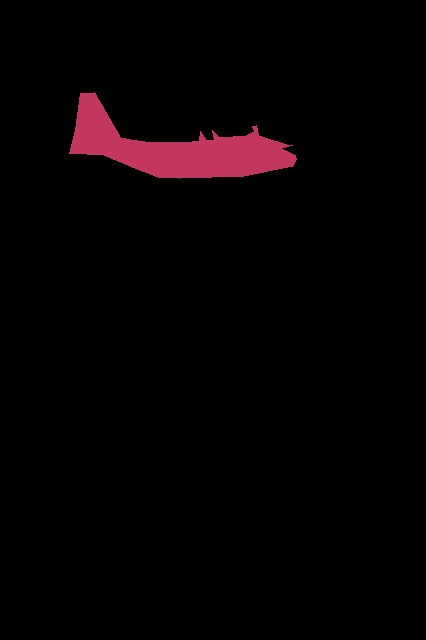Airplane: (69, 92, 296, 179)
